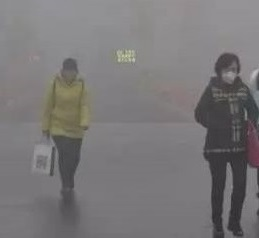person: (193, 52, 256, 238), (39, 57, 91, 211)
